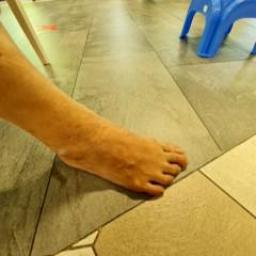Lateral View -Right Foot-: (33, 81, 208, 217)
